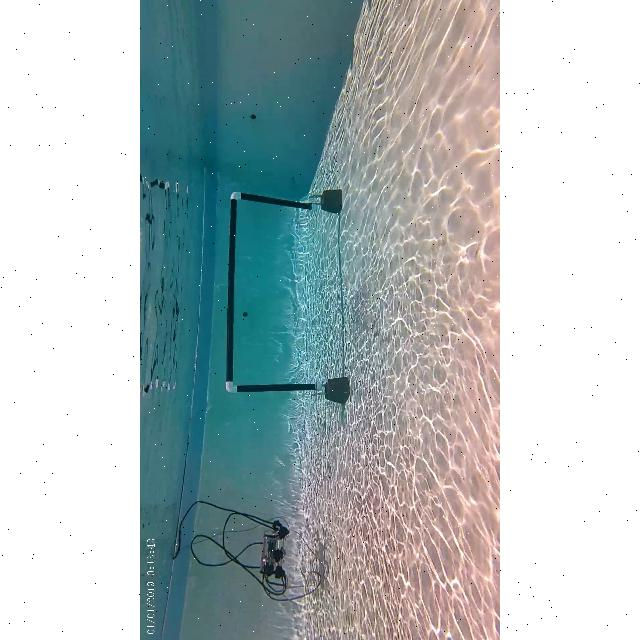prequal gate: (225, 188, 323, 394)
prequal gate leg l: (219, 374, 353, 406)
prequal gate leg r: (225, 182, 345, 215)
